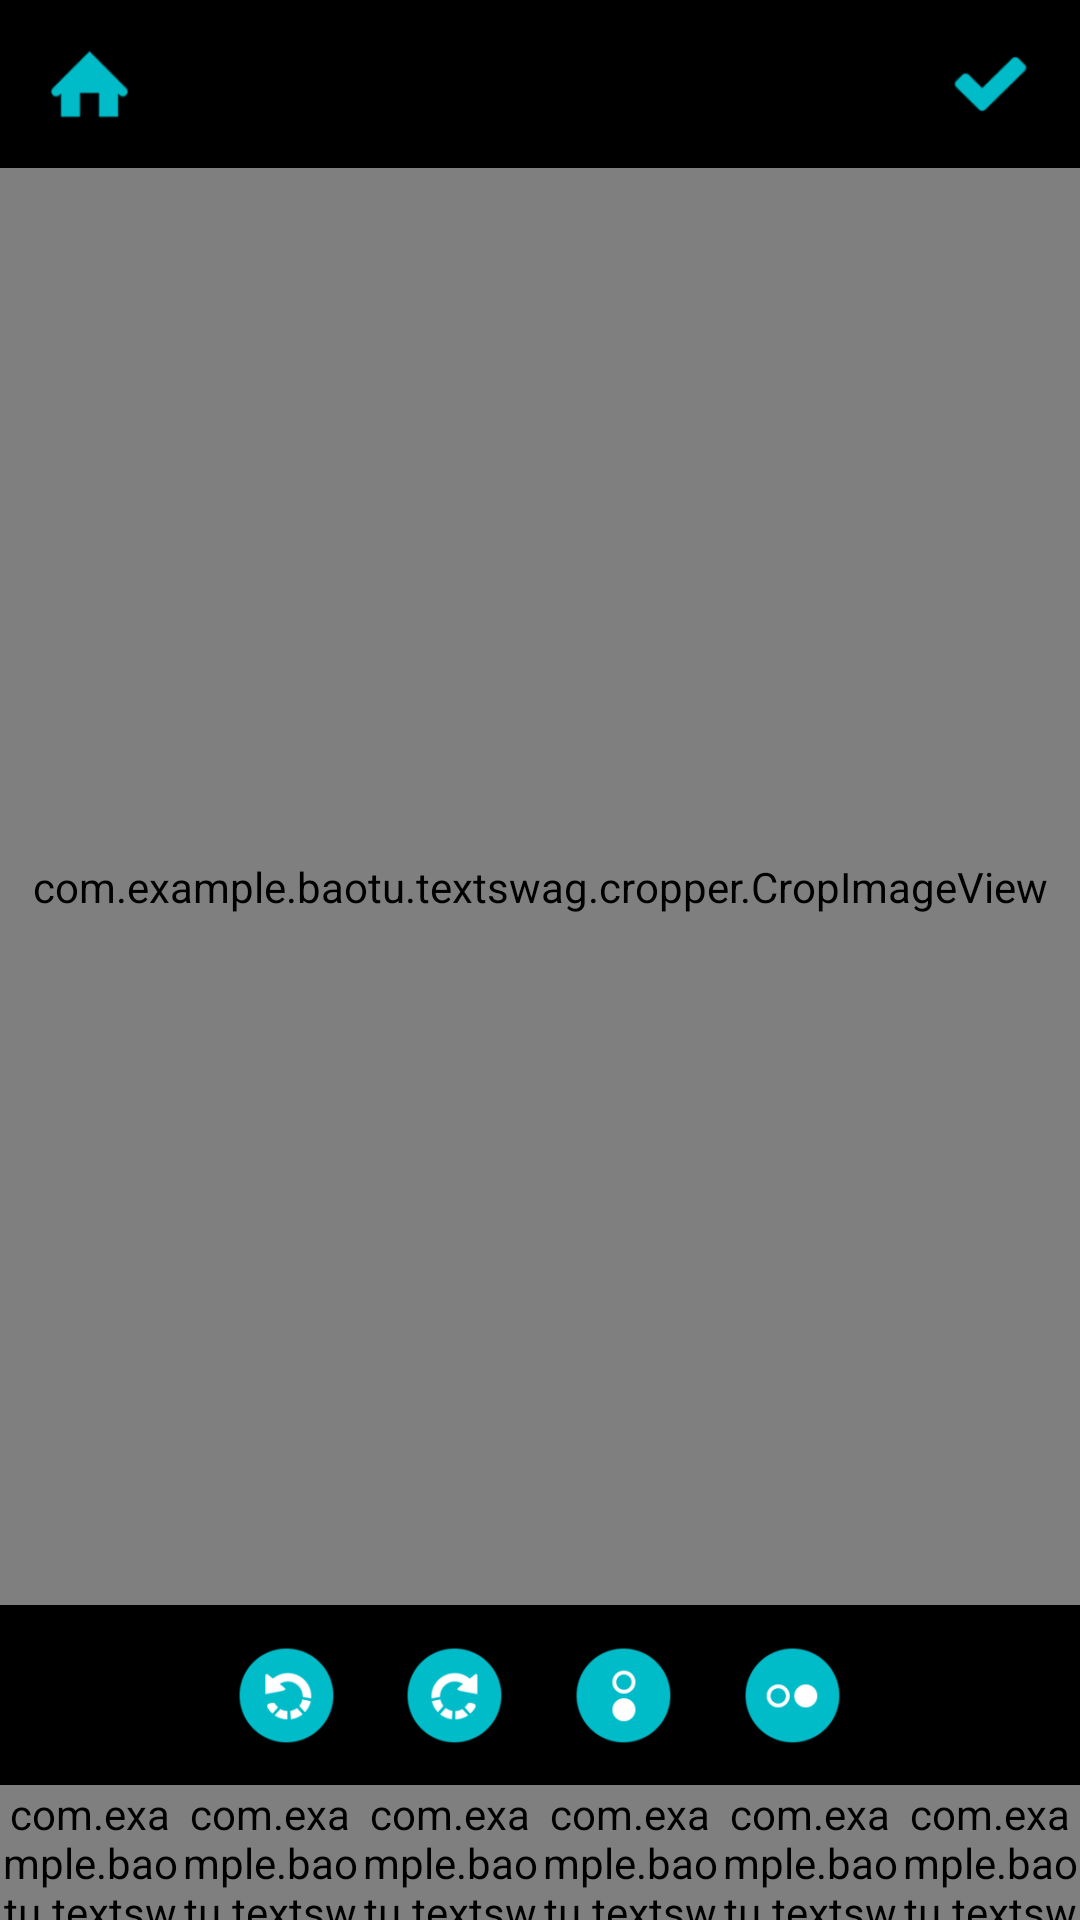

Icon click points for this 1080 × 1920 phone screenshot, format (x=x, y=y):
done: (x=990, y=84)
flip horizontal: (x=792, y=1695)
flip vertical: (x=623, y=1695)
home: (x=89, y=84)
rotate left: (x=286, y=1695)
rotate right: (x=454, y=1695)
